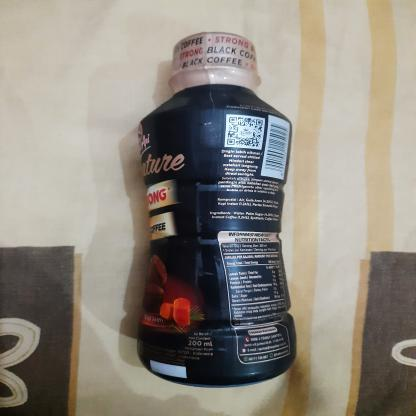bottle: (132, 26, 301, 393)
